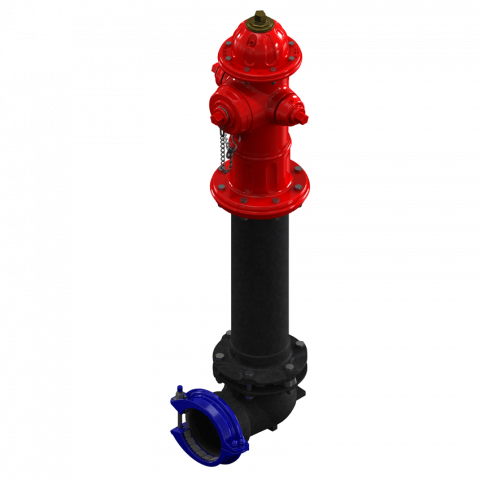FireHydrant: (153, 5, 334, 467)
